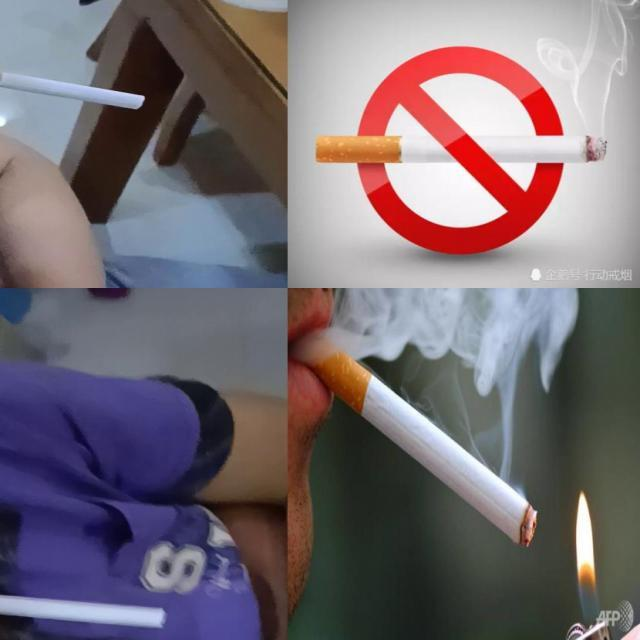cigarette: (292, 324, 538, 548), (315, 135, 607, 163), (0, 588, 171, 630), (0, 64, 150, 109)
